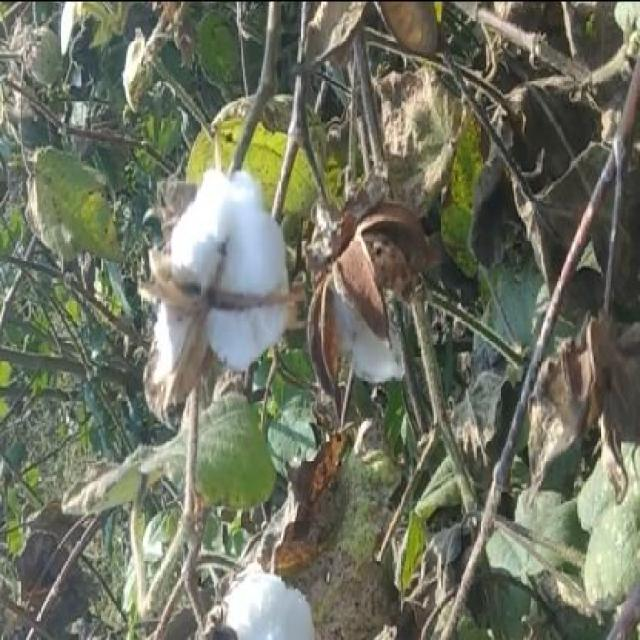cotton_ready: (132, 154, 298, 426), (152, 136, 299, 438)
